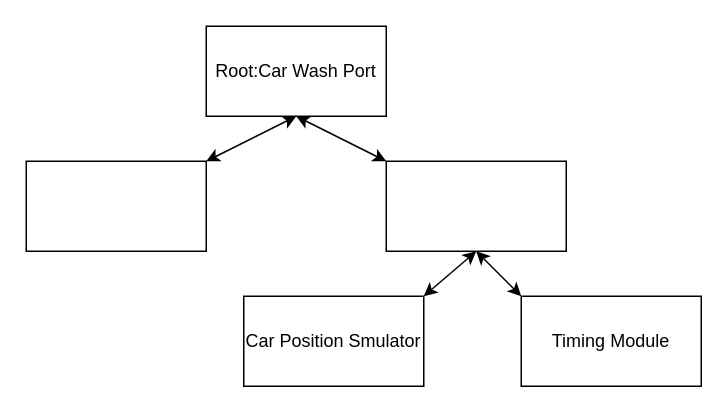
This 728x413 diagram has some shape labels left out. Each missing label, with the centre of its shape:
"Entry Console" goes at [115,205].
"User Display" goes at [475,205].
